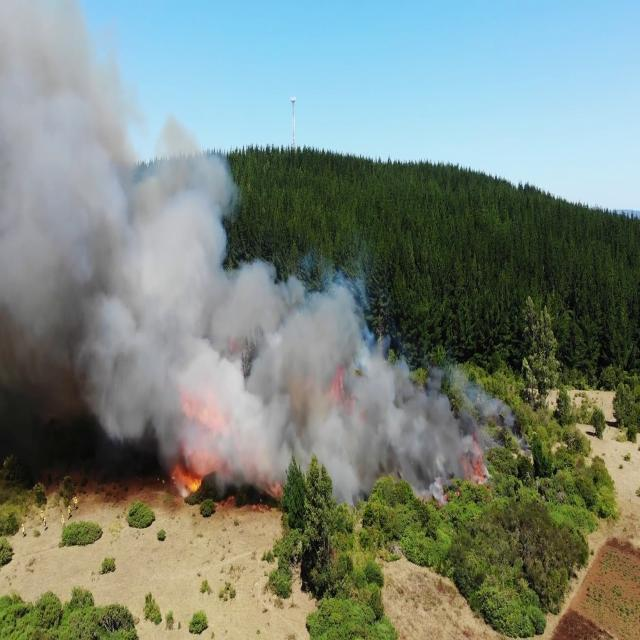Fire: (165, 452, 208, 506)
Smoke: (1, 3, 216, 494), (209, 250, 472, 497)
